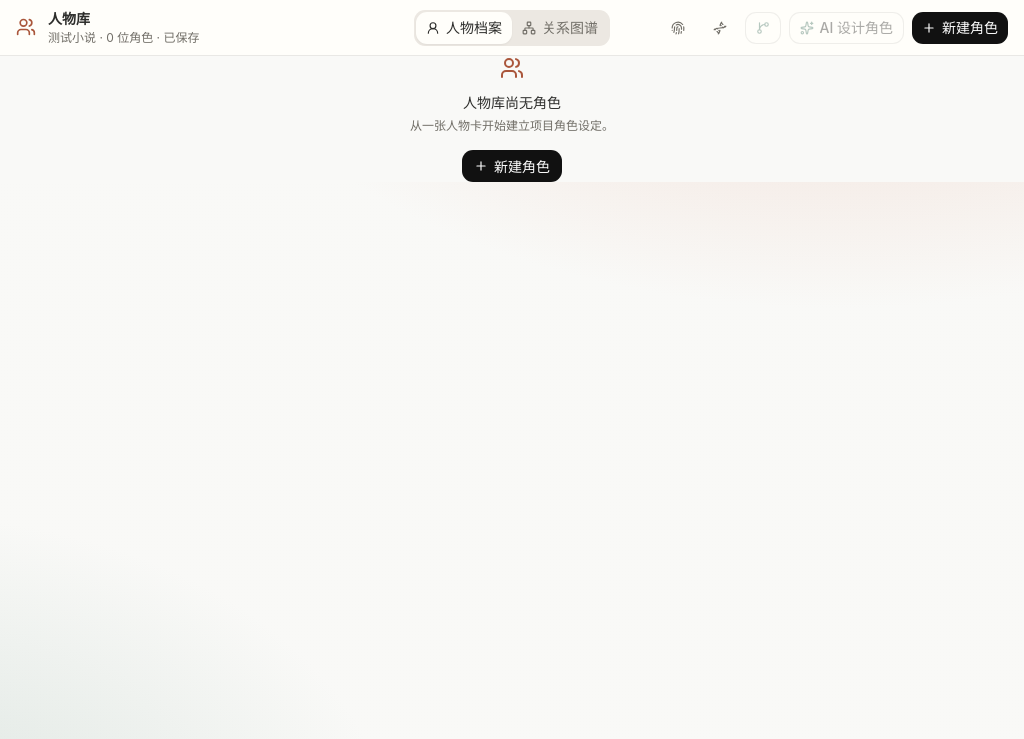
CharacterLibraryPrototype 顶部视图切换 › 未进入编辑态时也在编辑按钮旁显示删除按钮
The image size is (1024, 739).
expect the text "人物库尚无角色" is shown: met, box [463,92,561,113]
What coordinates should you click on to do the following:
click the button "新建角色" in the row of "已保存"
I would click on:
 (960, 28)
Its box is [912,12,1008,44].
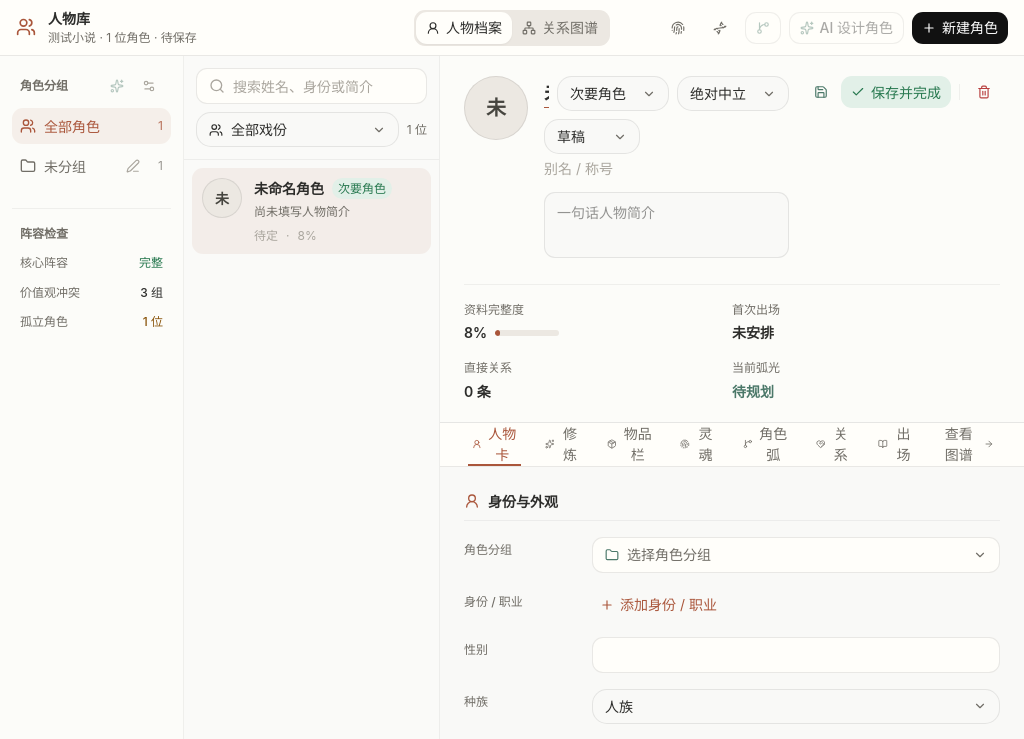
What coordinates should you click on to do the following:
click the button with aria-label "保存并完成编辑"
I would click on:
 (896, 92)
Its box is [841,76,951,108].
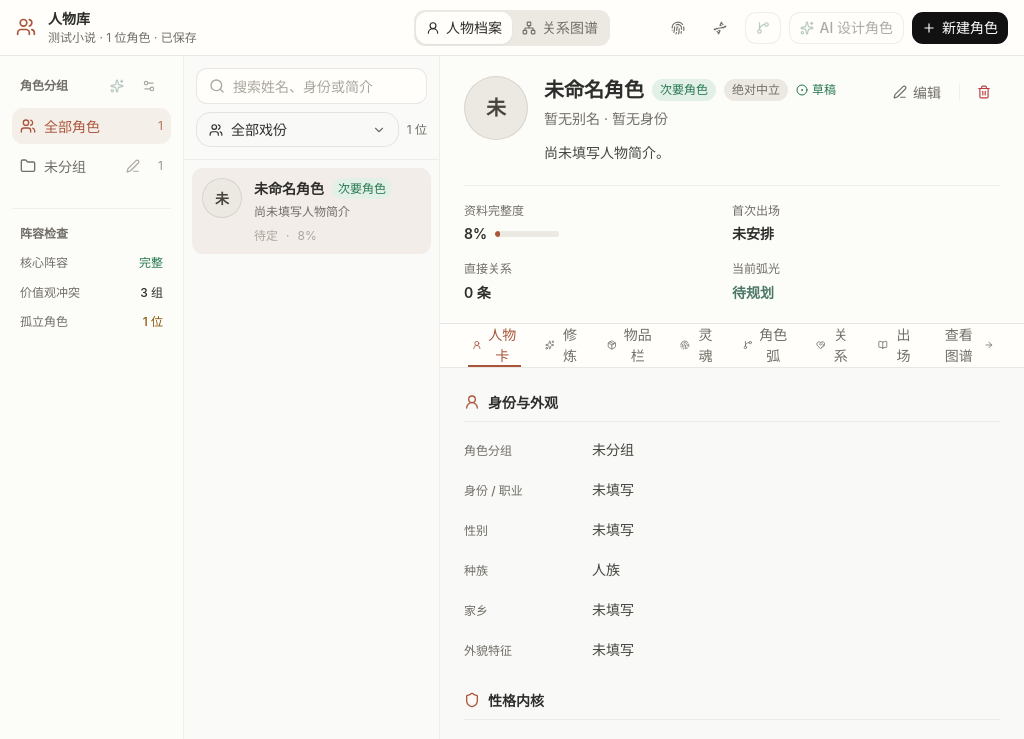
expect the button named "删除角色" is shown: met, box [968,76,1000,108]
expect the button with aria-label "编辑角色" is shown: met, box [883,76,951,108]
